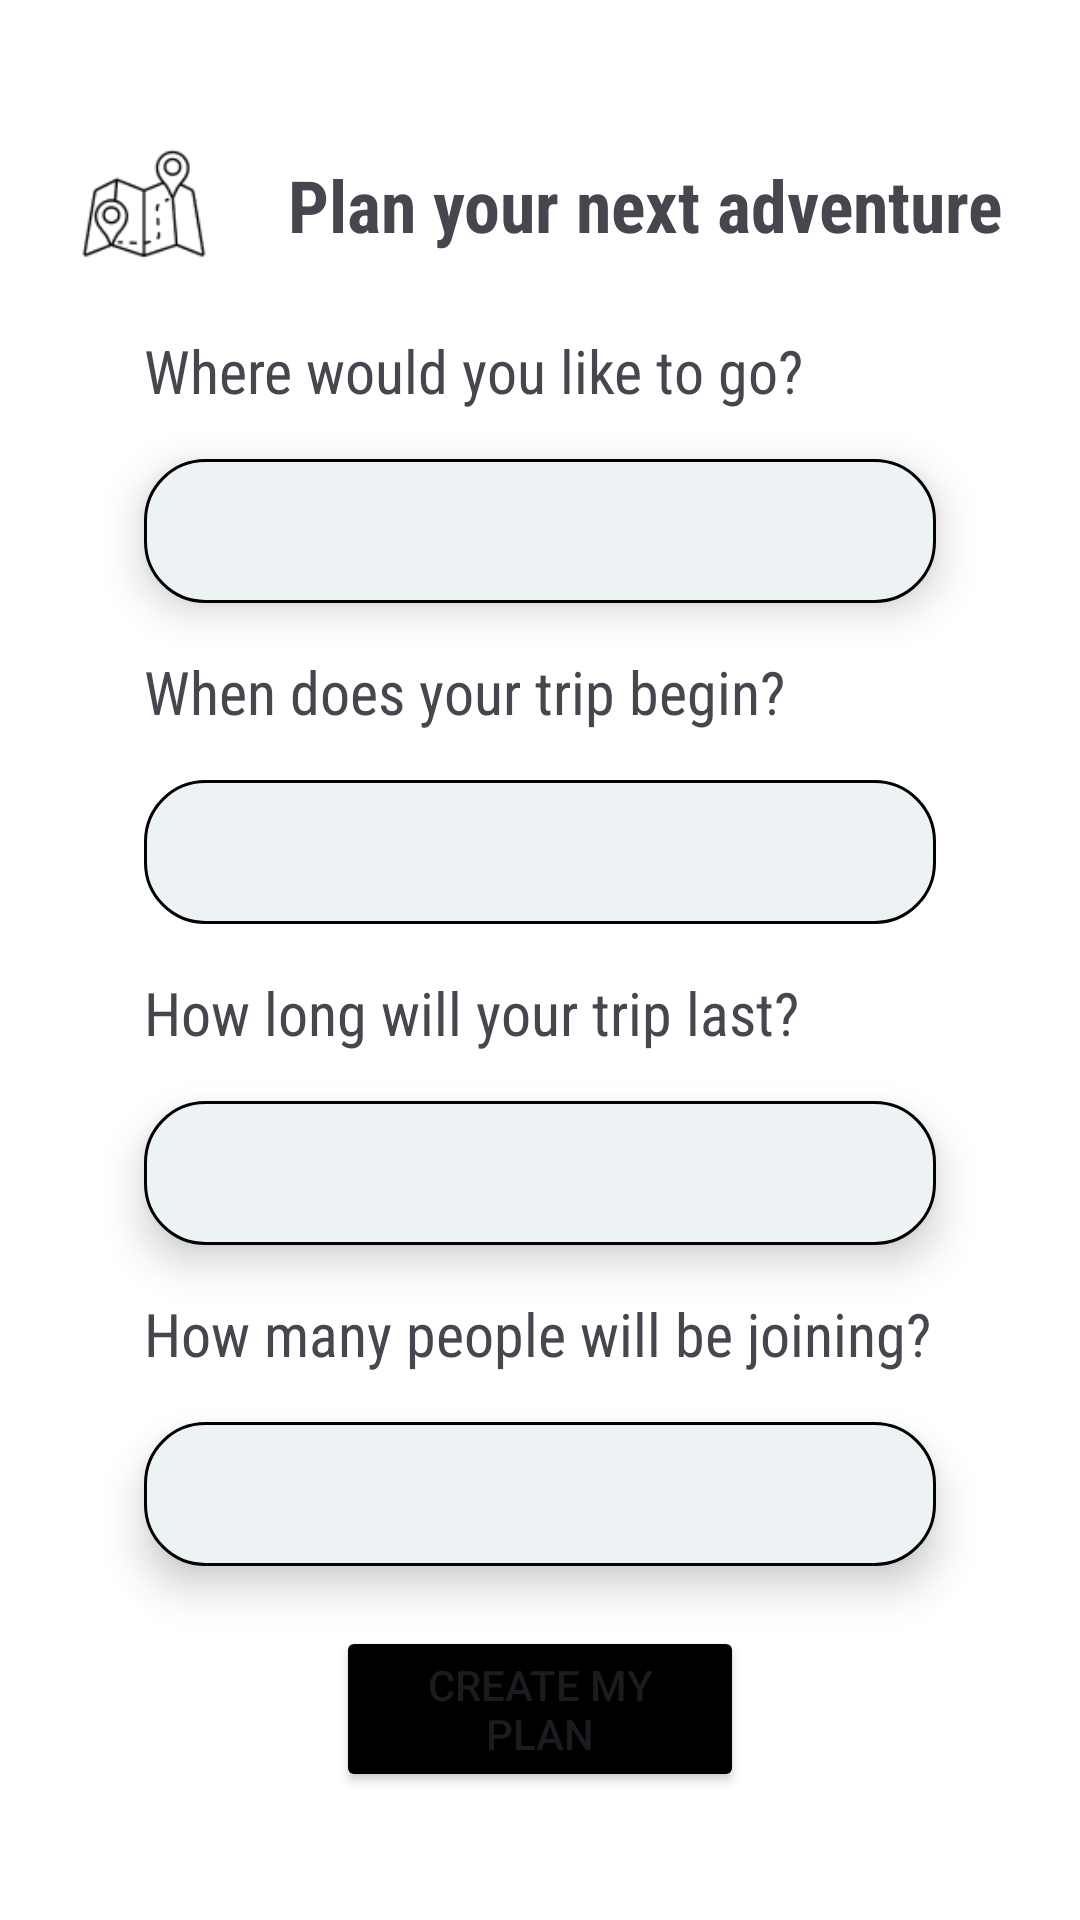

Point at icon controls on the screen. Image size 1080px×1920px, points as (x,y).
plantripmap: (144,204)
